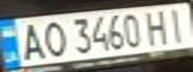0: (121, 11, 145, 48)
3: (69, 15, 93, 54)
4: (90, 12, 112, 52)
6: (106, 11, 127, 51)
A: (15, 20, 48, 61)
H: (142, 7, 175, 45)
I: (160, 4, 193, 43)
O: (36, 18, 69, 58)
